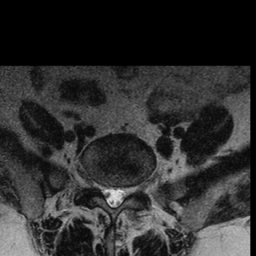CCS_normal: (110, 180, 117, 212)
LFS_normal: (125, 179, 133, 204)
LLS_normal: (118, 181, 125, 209)
RFS_stenosis: (95, 175, 103, 198)
RLS_normal: (103, 180, 110, 209)
